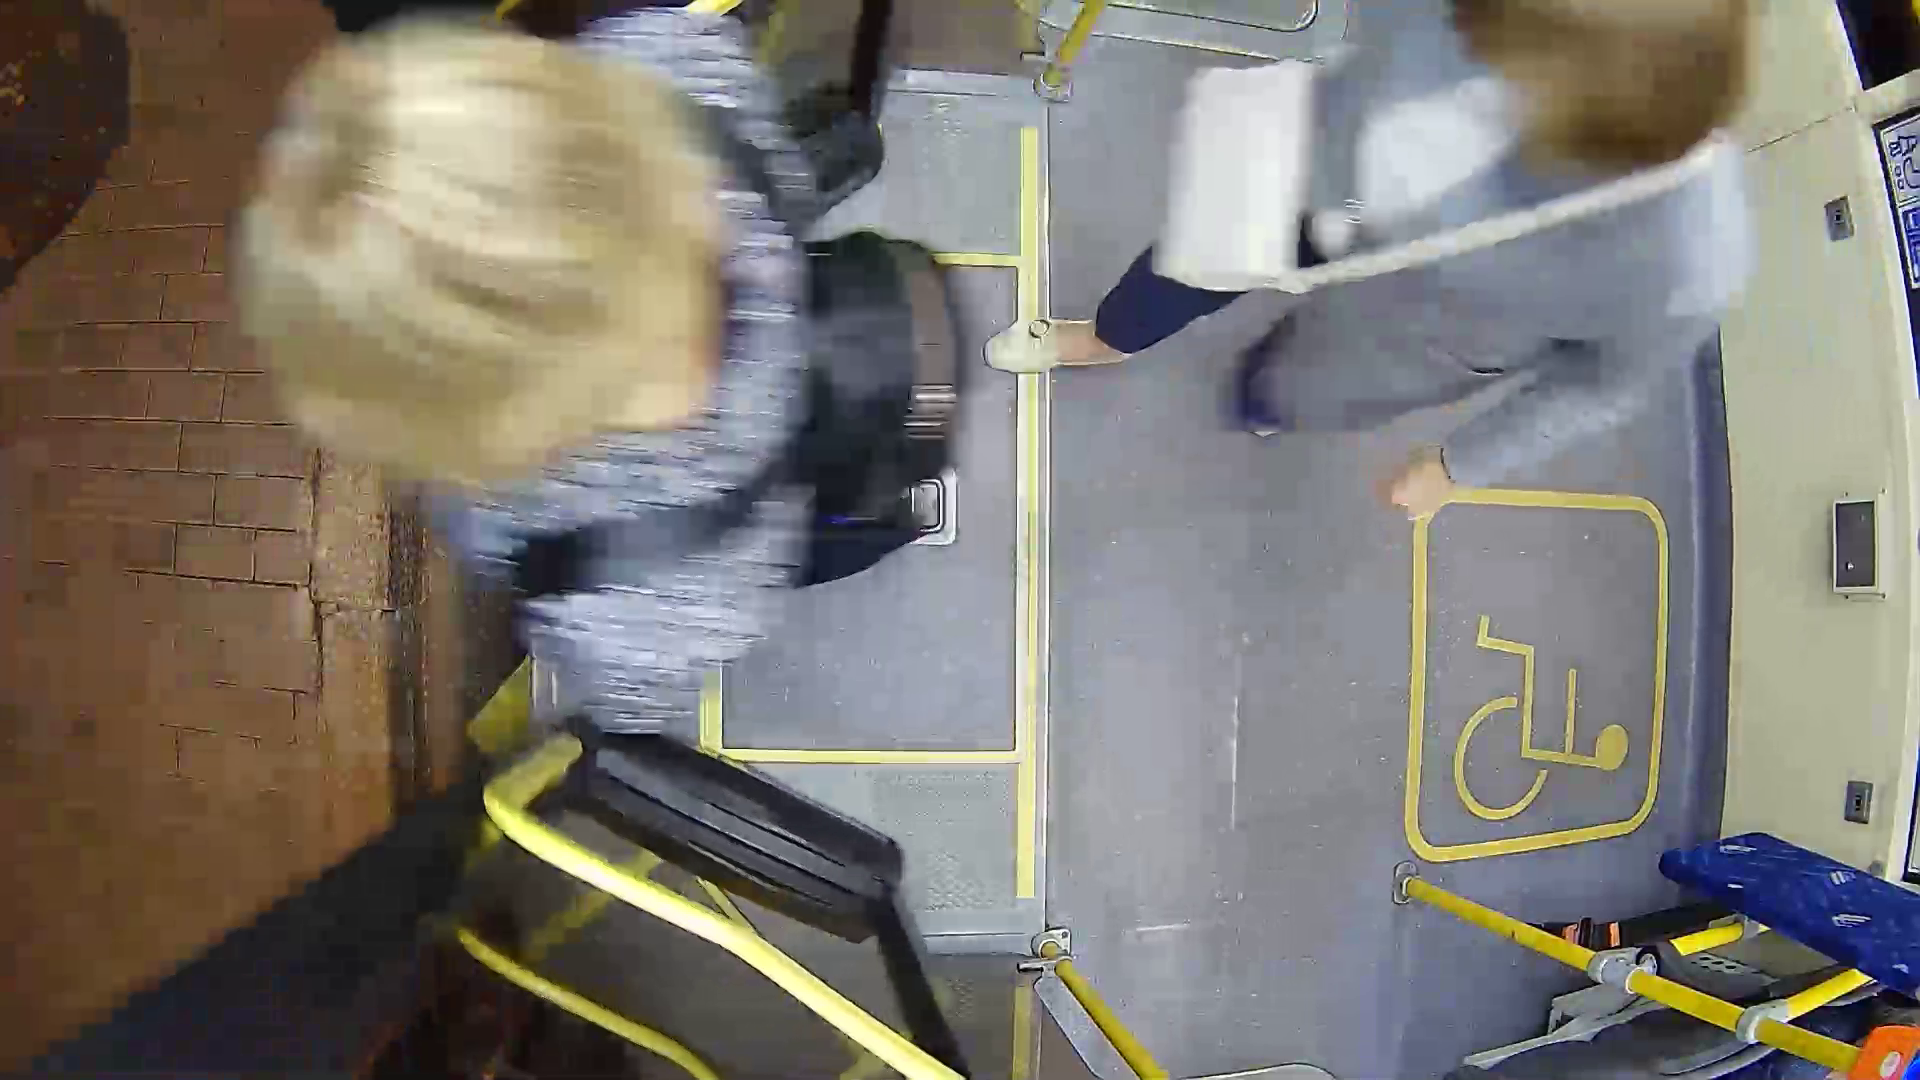person: (268, 14, 1104, 651), (1143, 20, 1834, 515)
